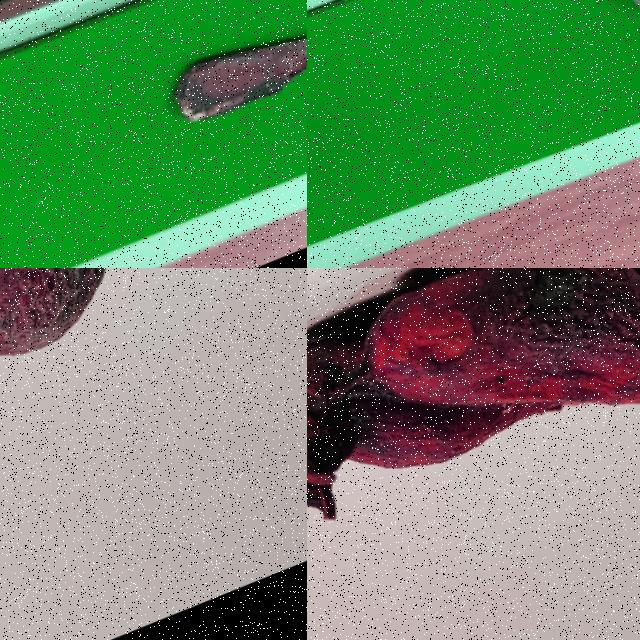Agglomerated_cocoabeans: (307, 268, 639, 617), (0, 268, 229, 479), (465, 0, 639, 113)
Flat_cocoabeans: (99, 0, 306, 195)
